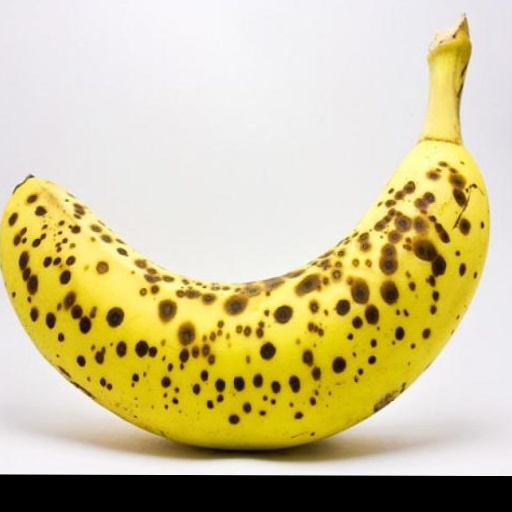fruit: (0, 19, 488, 448)
